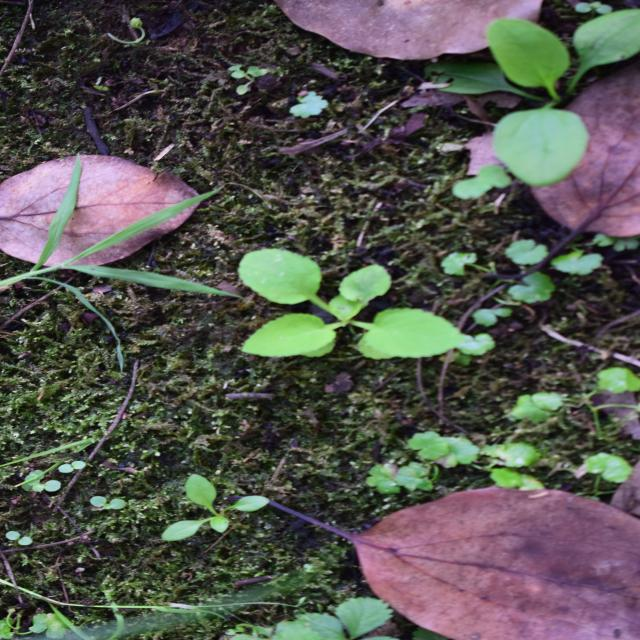Viola: (243, 230, 406, 440)
